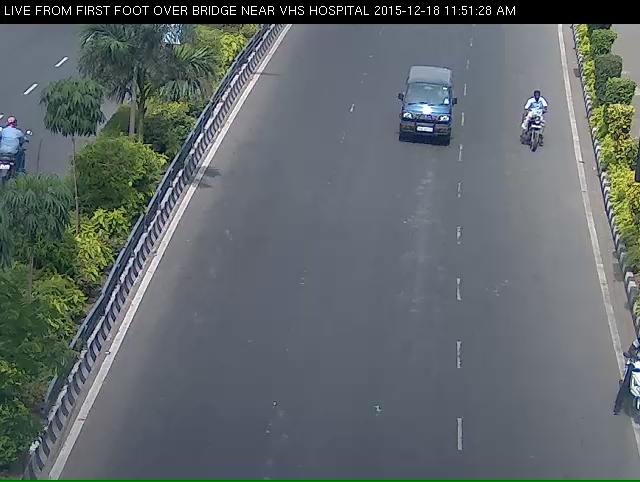Car: (390, 73, 460, 165)
Person: (516, 93, 556, 168)
